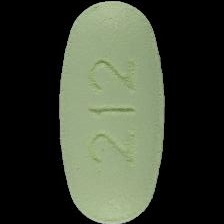68788-9693: (0, 0, 224, 224)
